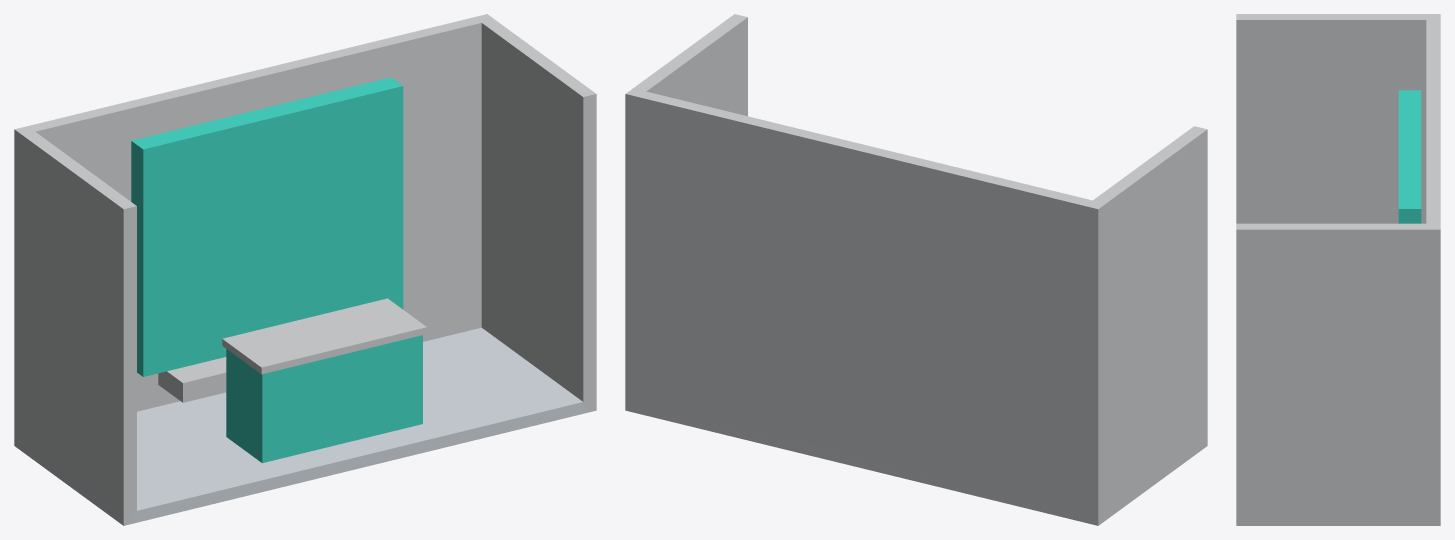
The picture shows the model from 3 angles, left to right: view 1: azimuth 30°, elevation 25°; view 2: azimuth 150°, elevation 25°; view 3: azimuth 270°, elevation 25°; orthographic projection. The views are drawn at different scales.
Parts seen in each view (by area): view 1: Exhibition Booth Concept; view 2: Exhibition Booth Concept; view 3: Exhibition Booth Concept.
Part boxes in pixels (x1,y1,x2,y2): Exhibition Booth Concept: (14,14,596,525); Exhibition Booth Concept: (625,14,1207,525); Exhibition Booth Concept: (1236,14,1440,525).
Bounding box in the file's own units: 5 × 3.2 × 2.
